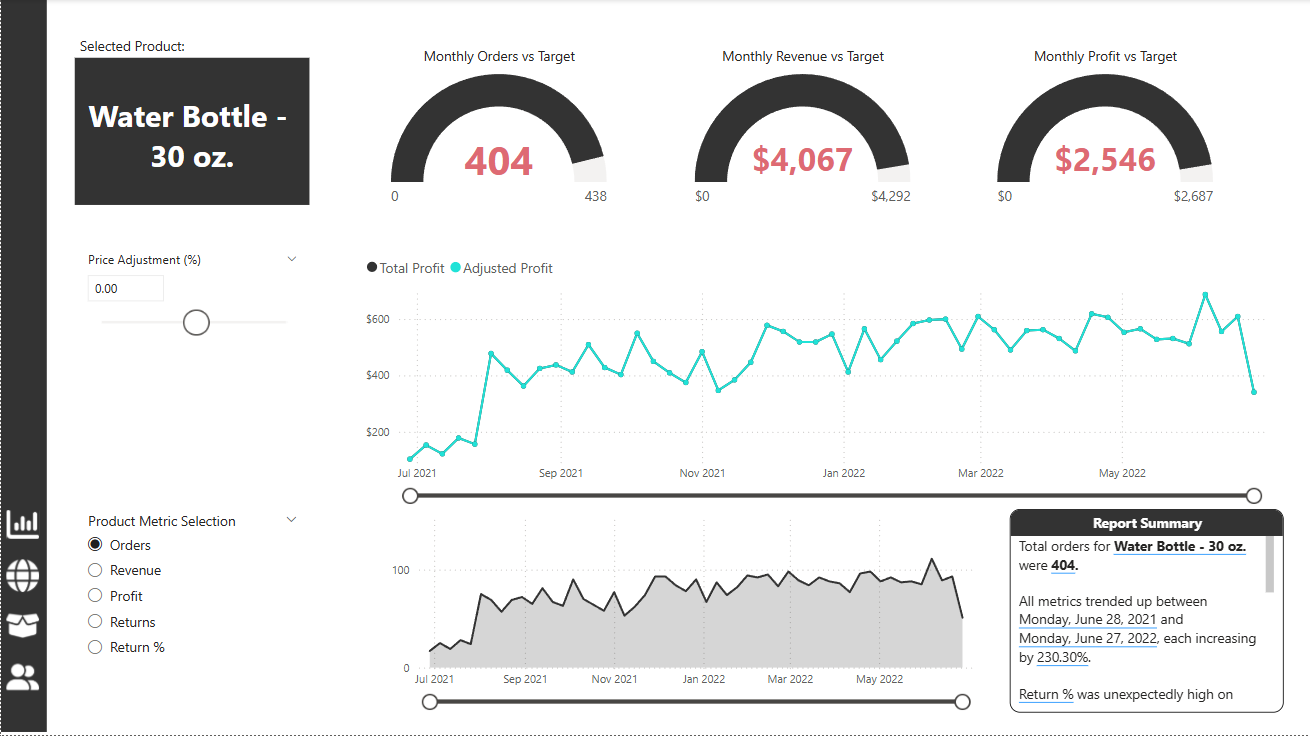

The dashboard page shown, as its layout file describes it:
{"tool":"powerbi","page":{"name":"Product Detail","canvas":[1280,720],"ordinal":2},"visuals":[{"type":"shape","box":[0,0,45,720.2],"z":0},{"type":"actionButton","box":[1.2,494,41.6,40.4],"z":0,"group":"g1"},{"type":"gauge","title":"Monthly Orders vs Target","fields":{"Y":["Measure Table.Total Orders"],"MaxValue":["Measure Table.Order Target"]},"box":[377,46.5,221.3,170],"z":1000},{"type":"actionButton","box":[1.2,593.5,41.6,40.4],"z":1000,"group":"g1"},{"type":"gauge","title":"Monthly Revenue vs Target","fields":{"Y":["Measure Table.Total Revenue"],"MaxValue":["Measure Table.Revenue Target"]},"box":[673.4,46.5,221.3,170],"z":2000},{"type":"actionButton","box":[1.2,543.7,41.6,40.4],"z":2000,"group":"g1"},{"type":"gauge","title":"Monthly Profit vs Target","fields":{"Y":["Measure Table.Total Profit"],"MaxValue":["Measure Table.Profit Target"]},"box":[969.7,46.5,221.3,170],"z":3000},{"type":"actionButton","box":[1.2,643.2,41.6,40.4],"z":3000,"group":"g1"},{"type":"lineChart","title":"Profit Trending","fields":{"Category":["Calendar Lookup.Date Hierarchy.Start of Year","Calendar Lookup.Date Hierarchy.Start of Month","Calendar Lookup.Date Hierarchy.Start of Week","Calendar Lookup.Date Hierarchy.Date"],"Y":["Measure Table.Total Profit","Measure Table.Adjusted Profit"]},"box":[352.2,242.1,902.5,254.3],"z":4000},{"type":"areaChart","title":"Return Trending","fields":{"Y":["Measure Table.Total Orders"],"Category":["Calendar Lookup.Date Hierarchy.Start of Year","Calendar Lookup.Date Hierarchy.Start of Month","Calendar Lookup.Date Hierarchy.Start of Week","Calendar Lookup.Date Hierarchy.Date"]},"box":[376.6,496.5,593.1,201.8],"z":5000},{"type":"card","fields":{"Values":["Min(Product Lookup.ProductName)"]},"box":[72.1,57.2,229.9,144.3],"z":6000},{"type":"textbox","box":[72.1,31.5,129.6,31.8],"z":7000},{"type":"group","id":"g1","title":"Navigation Button","box":[1.2,494,41.6,189.5],"z":8000},{"type":"slicer","fields":{"Values":["Price Adjustment (%).Price Adjustment (%)"]},"box":[72.1,242.1,229.9,117.4],"z":9000},{"type":"slicer","fields":{"Values":["Product Metric Selection.Product Metric Selection"]},"box":[72.1,496.5,229.9,201.8],"z":10000},{"type":"textbox","title":"Report Summary","box":[986.8,498.9,267.8,199.3],"z":11000}]}

Visuals, with their boxes on the page's 1280x720 design canvas (x1, y1, x2, y2). These are canvas units, not pixel positions in the 1310x736 screenshot, which may show the page scaled, cropped or inside an application window:
shape: (0, 0, 45, 720)
actionButton: (1, 494, 43, 534)
"Monthly Orders vs Target" gauge: (377, 46, 598, 216)
actionButton: (1, 594, 43, 634)
"Monthly Revenue vs Target" gauge: (673, 46, 895, 216)
actionButton: (1, 544, 43, 584)
"Monthly Profit vs Target" gauge: (970, 46, 1191, 216)
actionButton: (1, 643, 43, 684)
"Profit Trending" lineChart: (352, 242, 1255, 496)
"Return Trending" areaChart: (377, 496, 970, 698)
card - Min(Product Lookup.ProductName): (72, 57, 302, 202)
textbox: (72, 32, 202, 63)
"Navigation Button" group: (1, 494, 43, 684)
slicer - Price Adjustment (%).Price Adjustment (%): (72, 242, 302, 360)
slicer - Product Metric Selection.Product Metric Selection: (72, 496, 302, 698)
"Report Summary" textbox: (987, 499, 1255, 698)
